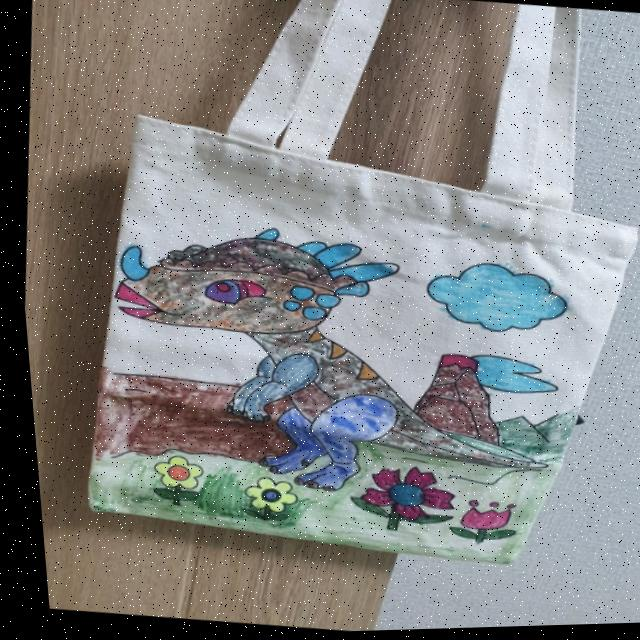ecobag: (17, 0, 640, 606)
